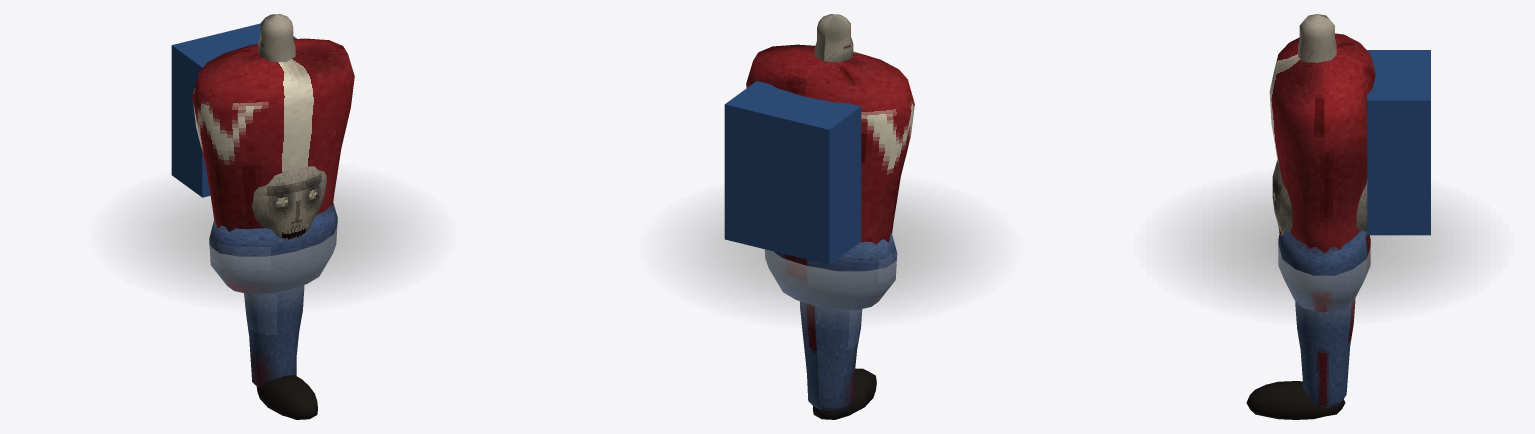
3 views of the same model, side by side, from view 1: azimuth 30°, elevation 25°; view 2: azimuth 150°, elevation 25°; view 3: azimuth 270°, elevation 25° (orthographic). The views are drawn at different scales.
Parts seen in each view (by area): view 1: root__x__11, spine__x__1, core__x__0, spine__x__3, legL1__x__12, head__h__4, legL2__x__14, spine__x__2; view 2: root__x__11, spine__x__3, spine__x__1, core__x__0, legL1__x__12, spine__x__2, legL2__x__14; view 3: root__x__11, spine__x__1, spine__x__3, core__x__0, legL1__x__12, legL2__x__14, spine__x__2, head__h__4.
Part boxes in pixels (box(x1,y1,x2,y2)): root__x__11: box(114, 173, 432, 302); spine__x__1: box(192, 38, 354, 231); core__x__0: box(209, 203, 337, 293); spine__x__3: box(171, 23, 296, 197); legL1__x__12: box(244, 285, 304, 387); head__h__4: box(251, 166, 326, 239); legL2__x__14: box(256, 375, 317, 419); spine__x__2: box(258, 14, 295, 62); root__x__11: box(665, 186, 995, 318); spine__x__3: box(724, 81, 861, 264); spine__x__1: box(746, 44, 914, 244); core__x__0: box(764, 232, 897, 310); legL1__x__12: box(800, 301, 862, 410); spine__x__2: box(814, 14, 853, 62); legL2__x__14: box(812, 368, 876, 419); root__x__11: box(1159, 181, 1489, 315); spine__x__1: box(1269, 33, 1375, 253); spine__x__3: box(1367, 50, 1430, 235); core__x__0: box(1278, 230, 1370, 311); legL1__x__12: box(1295, 299, 1355, 408); legL2__x__14: box(1246, 381, 1345, 419); spine__x__2: box(1298, 14, 1336, 62); head__h__4: box(1272, 160, 1367, 235).
Bounding box in the file's own units: 1.16 × 1.29 × 1.16.
7 materials, 5 textured.
